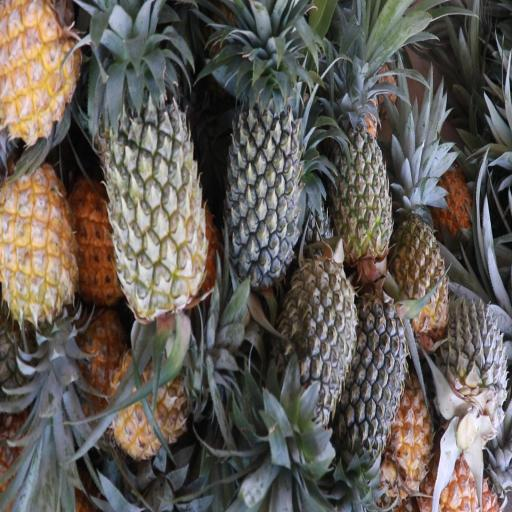------------------------------: (97, 44, 208, 310), (331, 92, 394, 262)
Pineapple - v8 v1: (0, 160, 79, 374), (106, 332, 224, 458), (0, 0, 81, 146), (390, 179, 448, 325)
